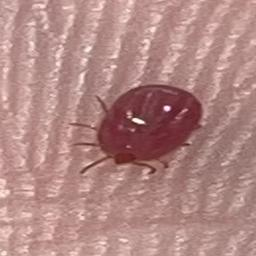Rhipicephalus sanguineus: (68, 84, 203, 175)
